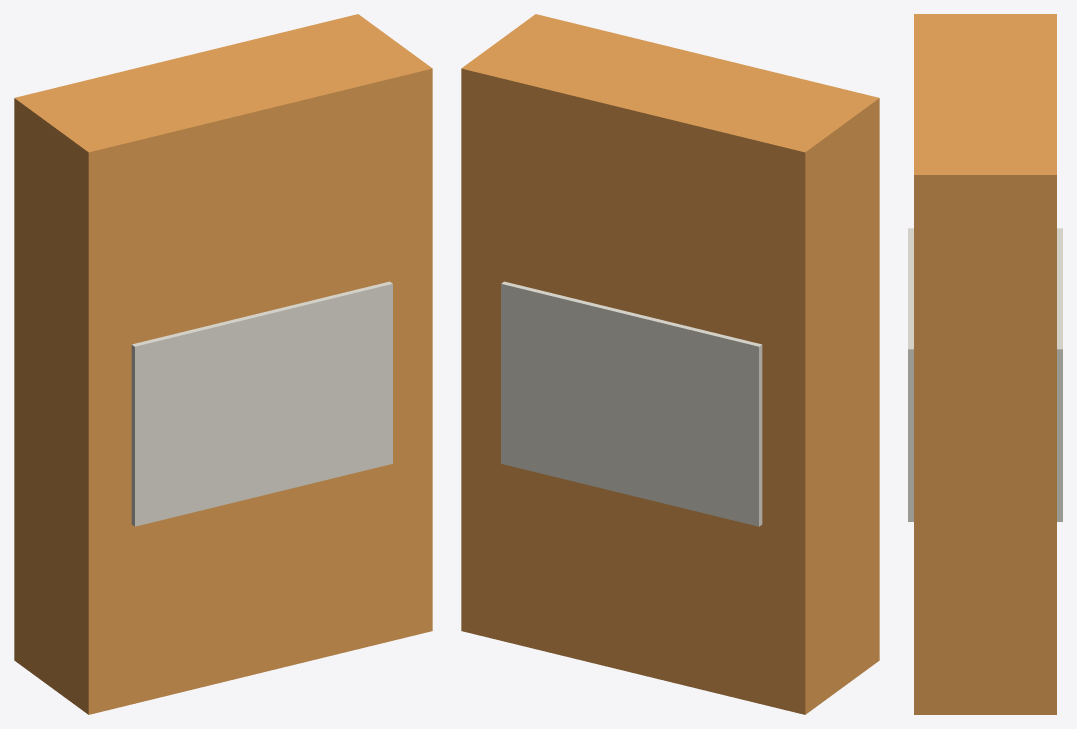
File: supermarket-operations-cereal-box-7a833365__26849.glb
3 renders of one model, left to right at view 1: azimuth 30°, elevation 25°; view 2: azimuth 150°, elevation 25°; view 3: azimuth 270°, elevation 25°, orthographic. The views are drawn at different scales.
Parts seen in each view (by area): view 1: cereal-box; view 2: cereal-box; view 3: cereal-box.
Part boxes in pixels (x1,y1,x2,y2): cereal-box: (14, 14, 432, 714); cereal-box: (461, 14, 879, 714); cereal-box: (908, 14, 1062, 714).
Bounding box in the file's own units: 0.16 × 0.25 × 0.065.
